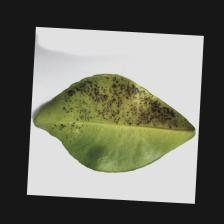canker: (64, 79, 187, 134)
